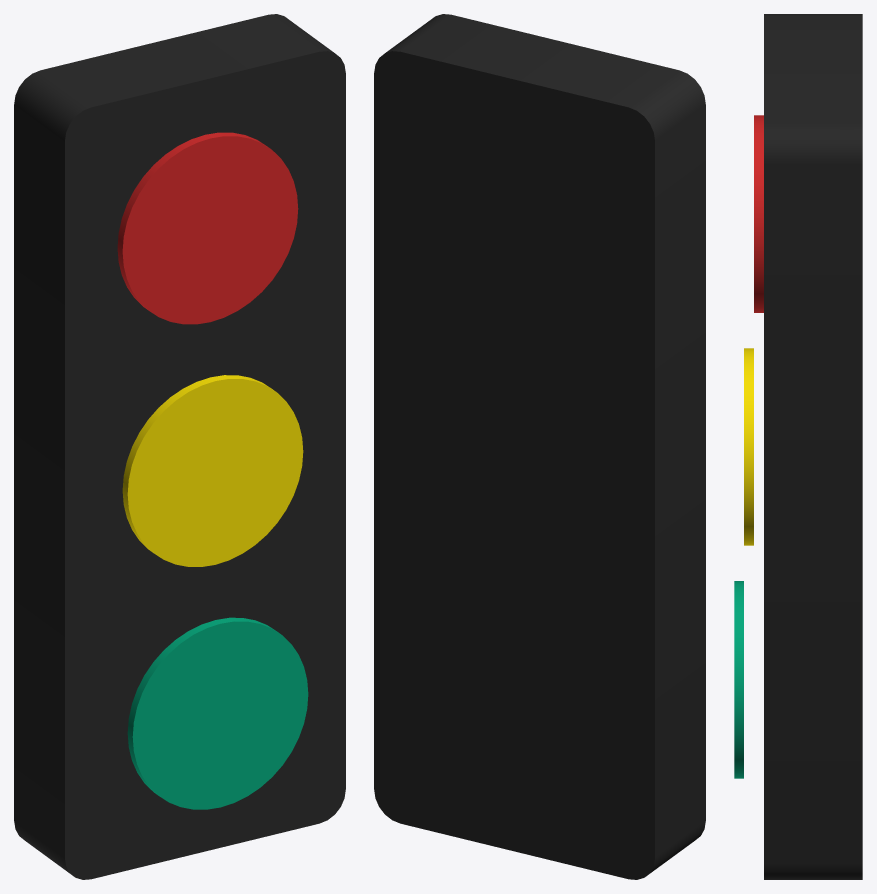
3 renders of one model, left to right at view 1: azimuth 30°, elevation 25°; view 2: azimuth 150°, elevation 25°; view 3: azimuth 270°, elevation 25°, orthographic. The views are drawn at different scales.
Visible parts, largest first — view 1: KR11_r00, KR11_d300, KR11_d250, KR11_d275; view 2: KR11_r00; view 3: KR11_r00, KR11_d250, KR11_d275, KR11_d300.
Part boxes in pixels (x1,y1,x2,y2): KR11_r00: (14,14,345,879); KR11_d300: (127,617,308,809); KR11_d250: (117,132,298,324); KR11_d275: (122,375,303,566); KR11_r00: (374,14,705,879); KR11_r00: (764,14,862,879); KR11_d250: (754,115,763,312); KR11_d275: (744,348,753,545); KR11_d300: (734,581,743,778).
Bounding box in the file's own units: 0.32 × 0.84 × 0.13.
